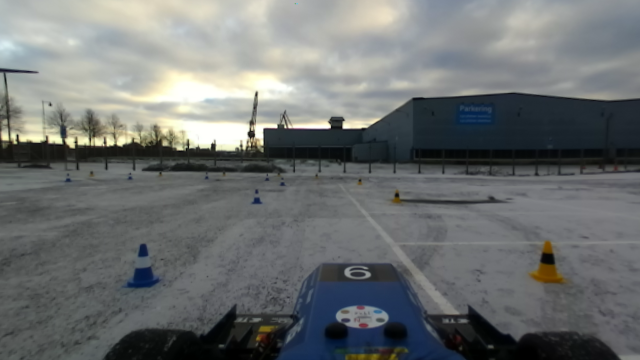blue: (125, 243, 160, 290)
yellow: (531, 240, 567, 287)
